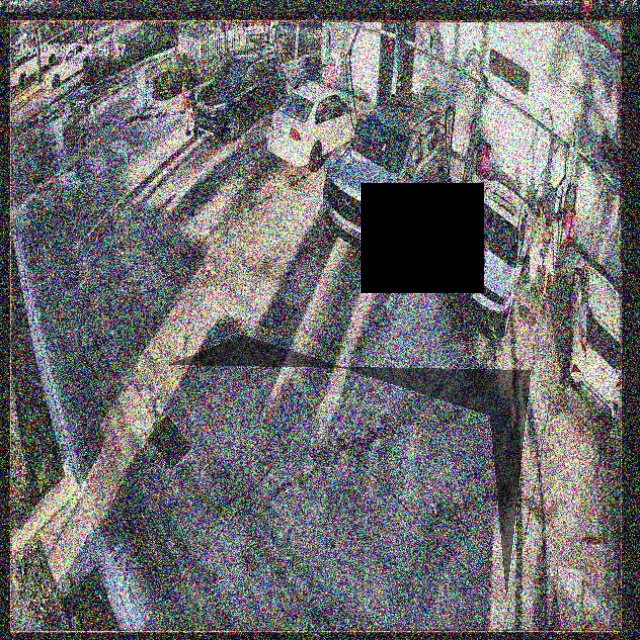Car: (324, 94, 449, 260), (437, 163, 529, 332), (268, 77, 363, 165)
